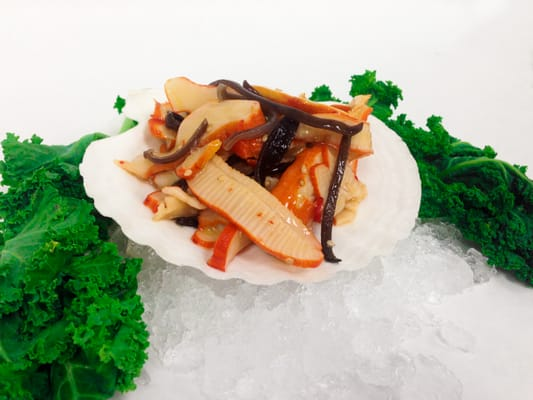curry: (0, 130, 152, 399), (350, 71, 533, 289)
